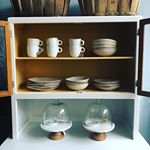cups: (43, 36, 63, 58), (26, 34, 43, 59), (67, 37, 86, 58)
